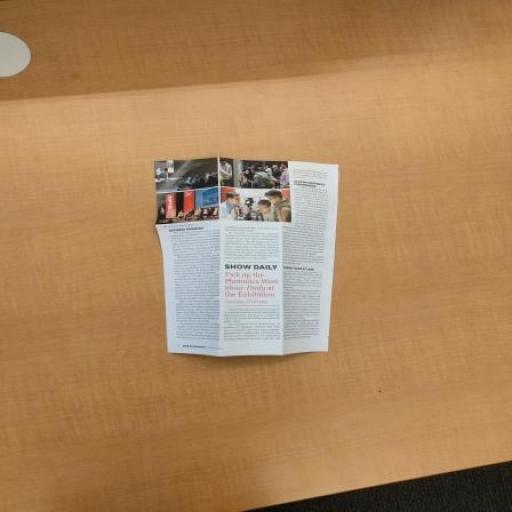paper: (98, 108, 440, 405)
